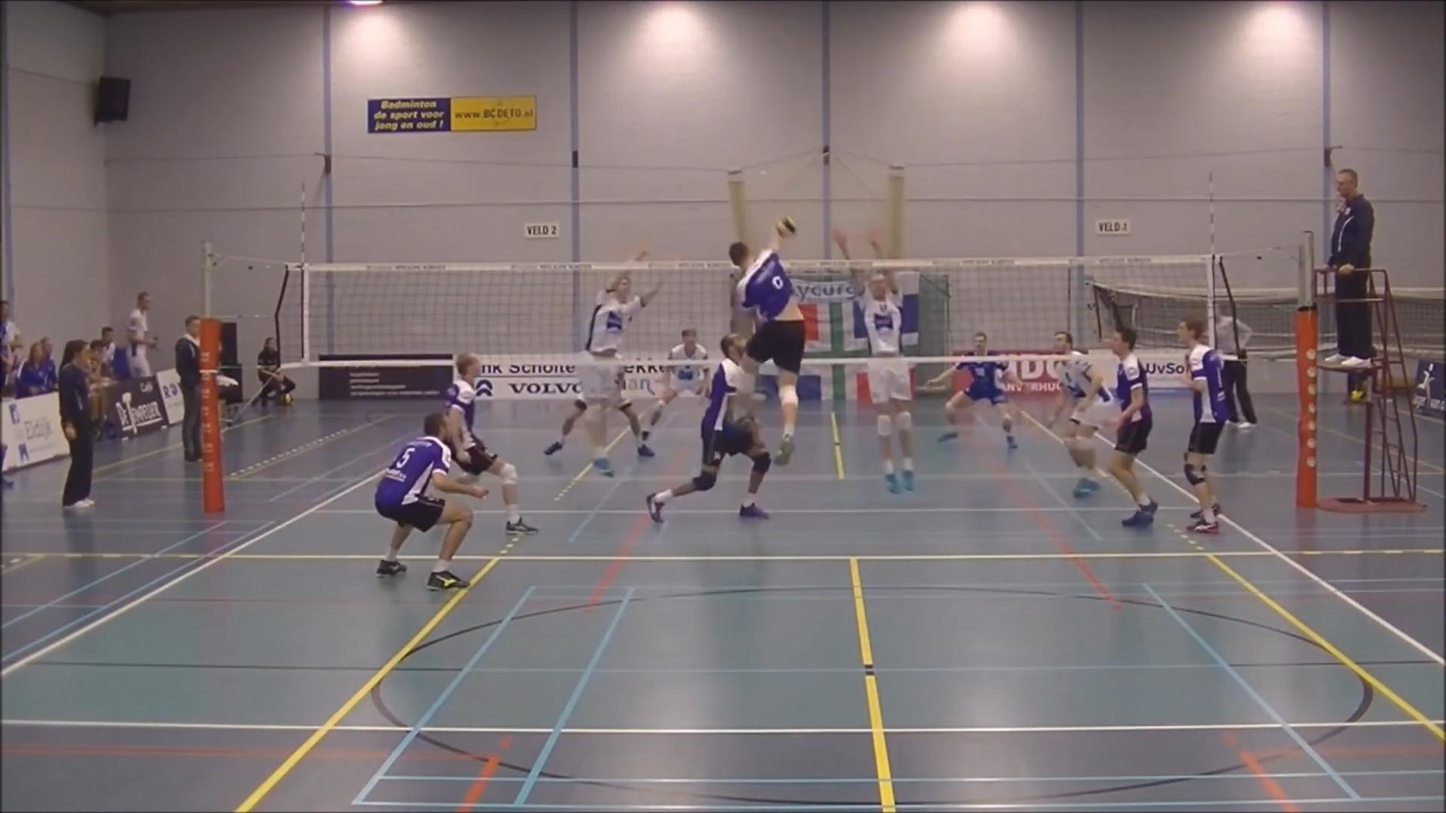attacco: (717, 215, 825, 456)
muro: (831, 223, 935, 510), (564, 231, 662, 473)
